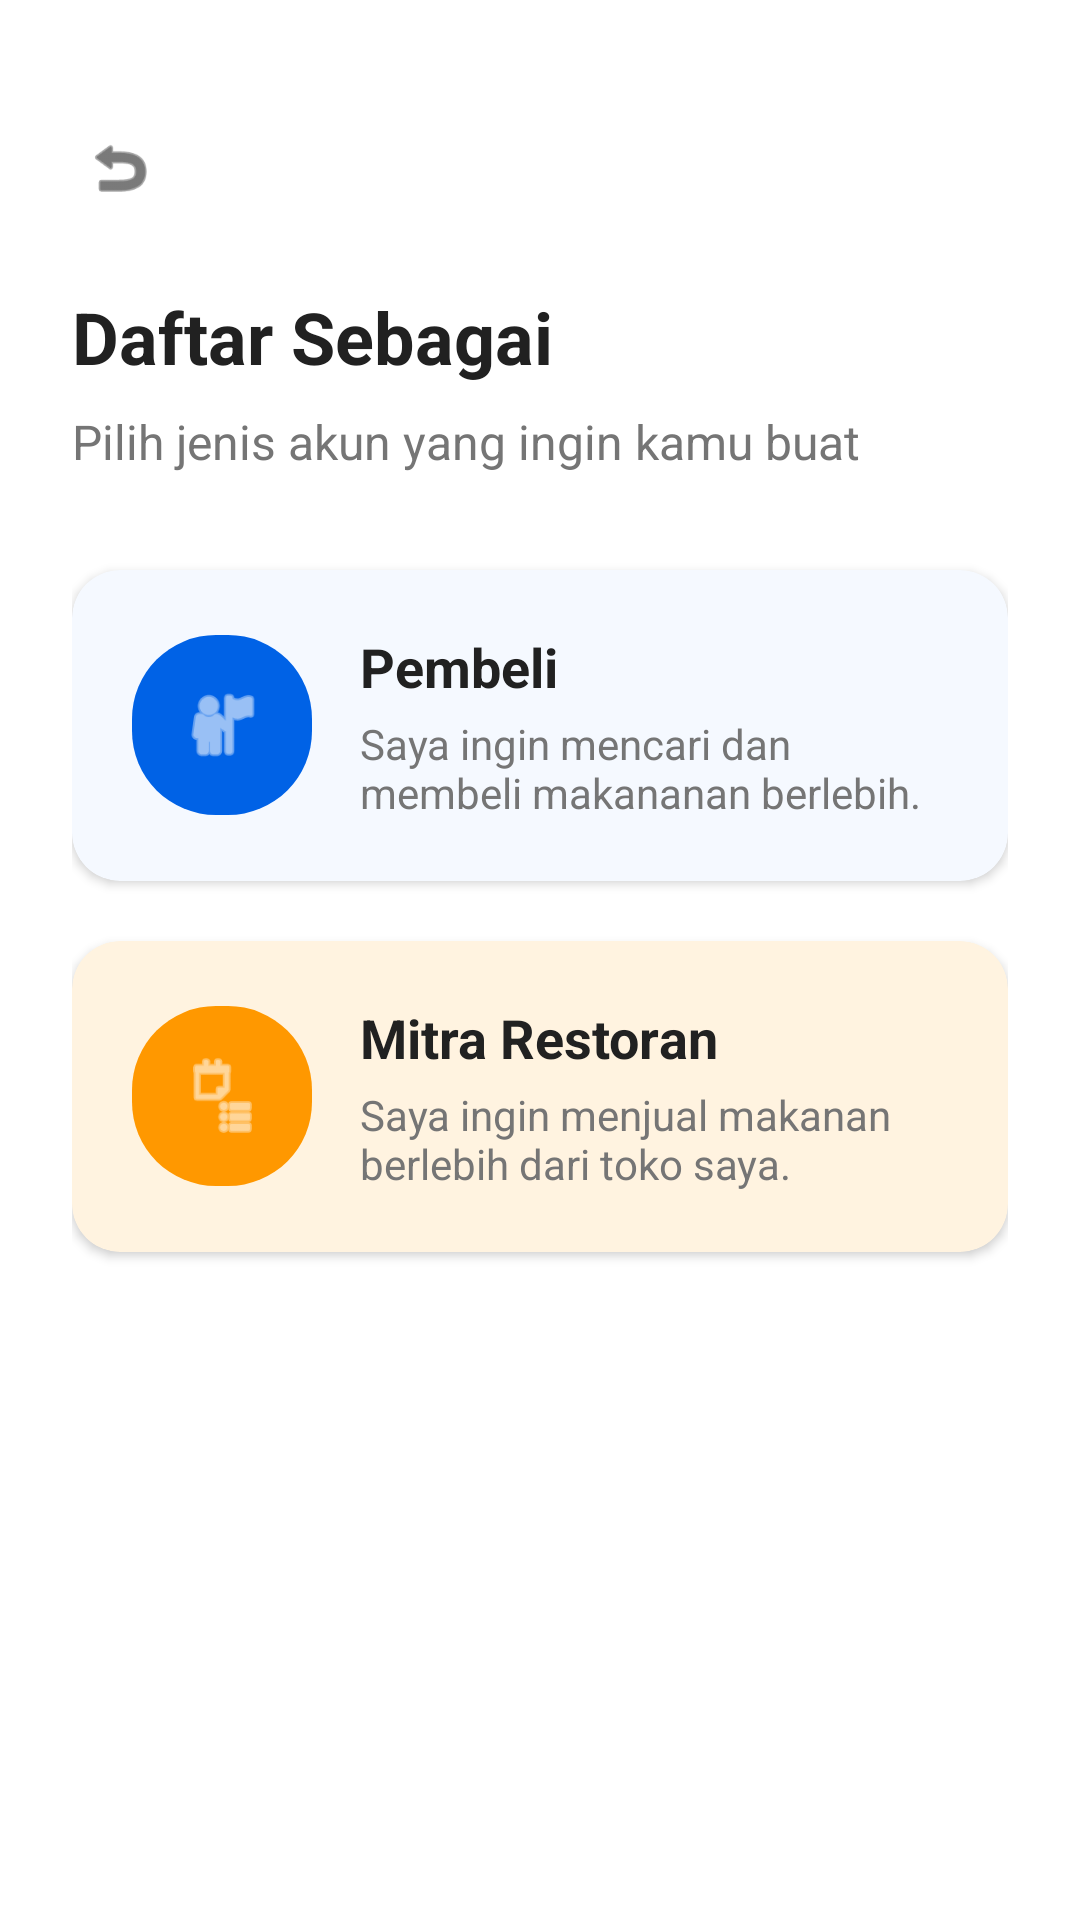

Where to tap for icons on this 1080w x 1920h app screen, as [x,y]:
agenda: [222,1096]
revert: [121,168]
